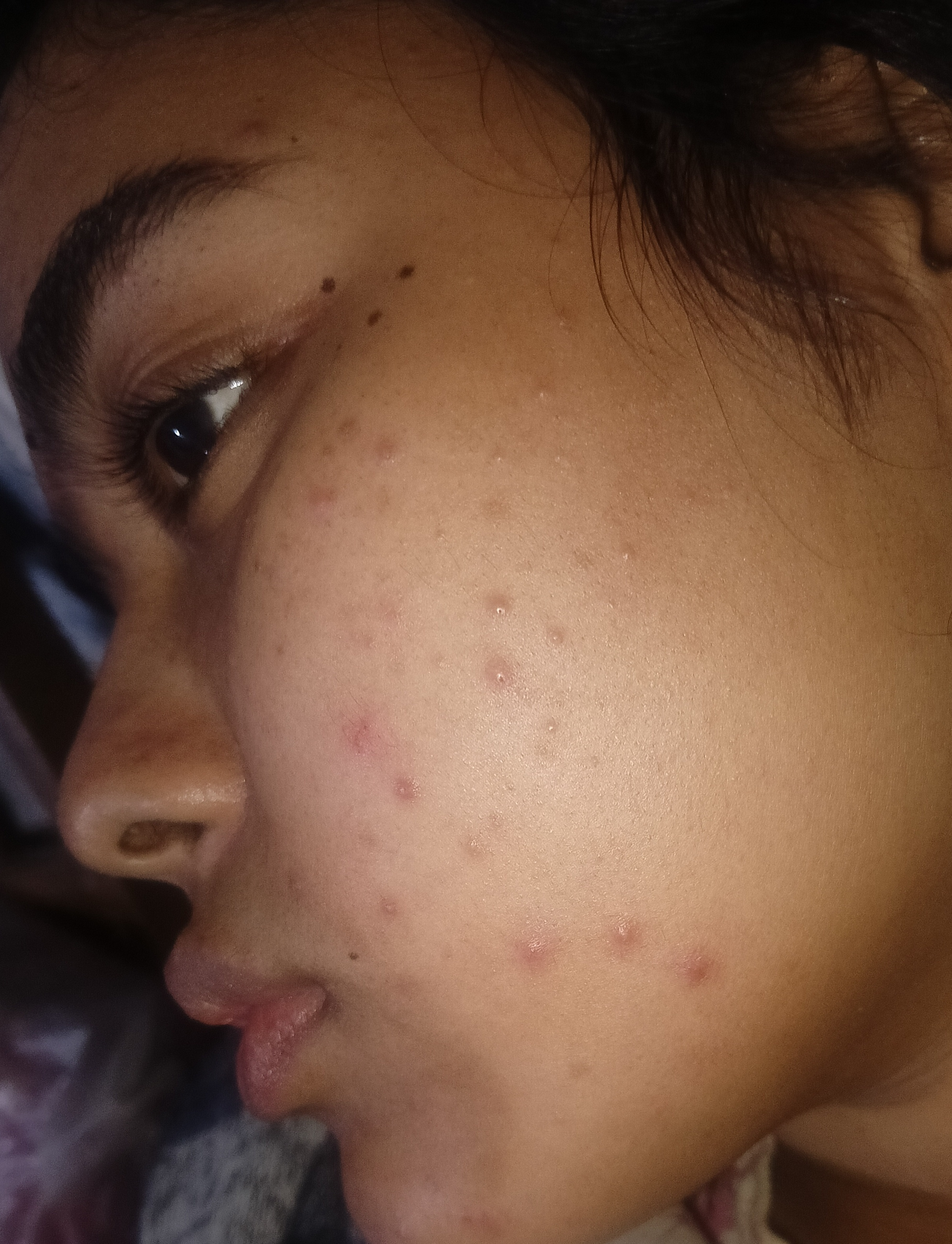papule: (470, 652, 556, 711), (673, 939, 743, 997), (597, 910, 661, 968), (599, 527, 657, 584), (453, 822, 515, 874), (507, 929, 566, 974), (382, 769, 427, 820), (369, 894, 418, 935), (531, 371, 564, 428), (478, 584, 509, 635)
